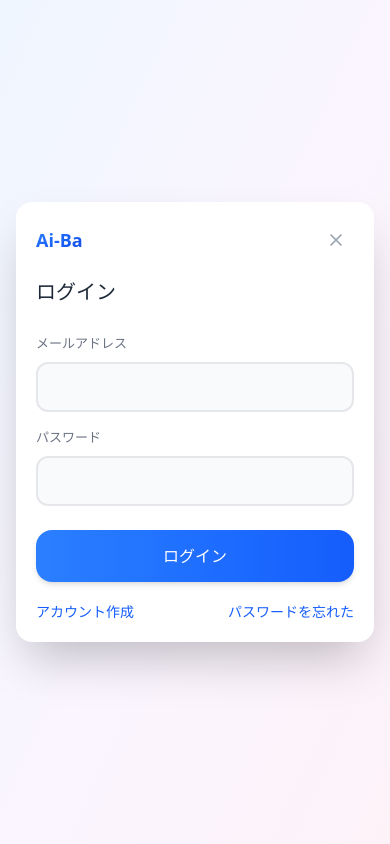
AuthModal › サインアップフォーム › 「アカウント作成」リンクでサインアップフォームに遷移
Click the text with test id "goto-signup". click: coordinates (85, 612)
box: [36,602,134,622]
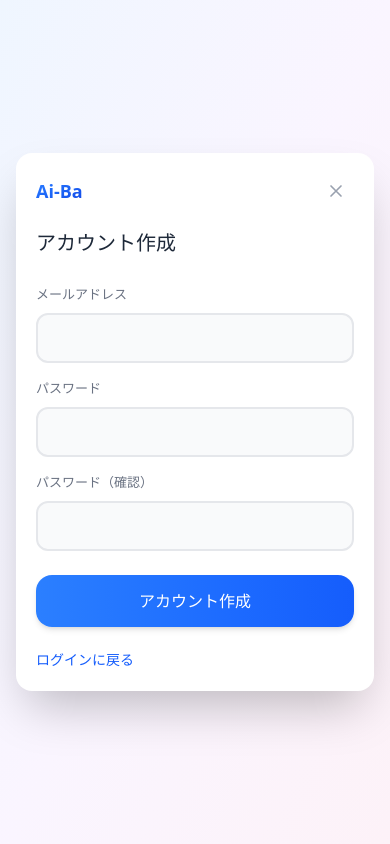
Expected: the form with test id "signup-form" is shown, [36,285,354,671]
